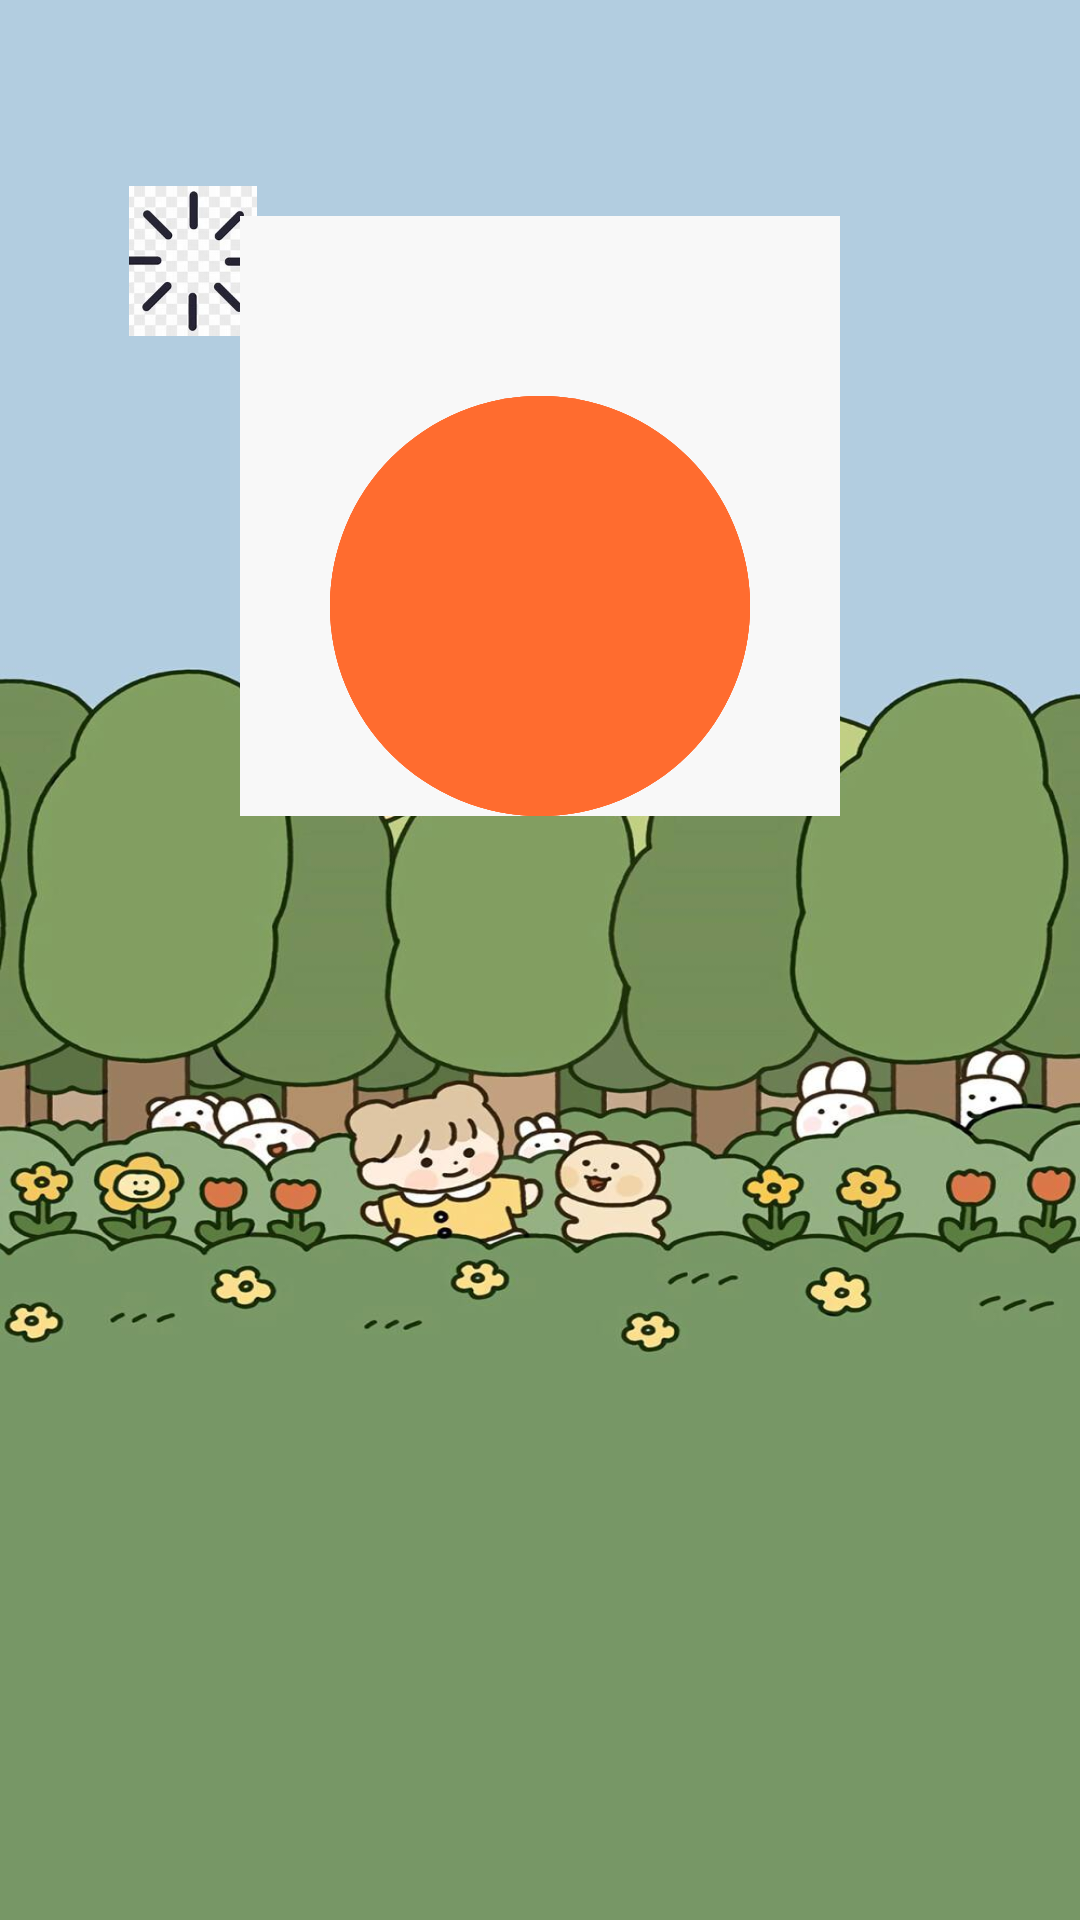

Named icons in this screenshot (1080px x 1920px) and their centers, (x,y):
loading: (198,261)
